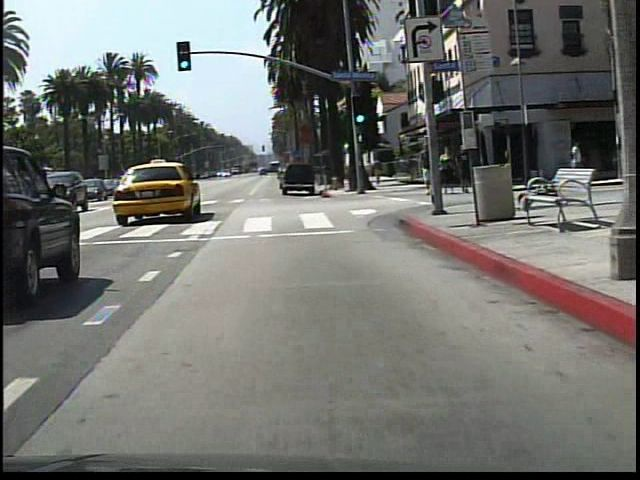person: (415, 141, 435, 199), (566, 138, 583, 184)
